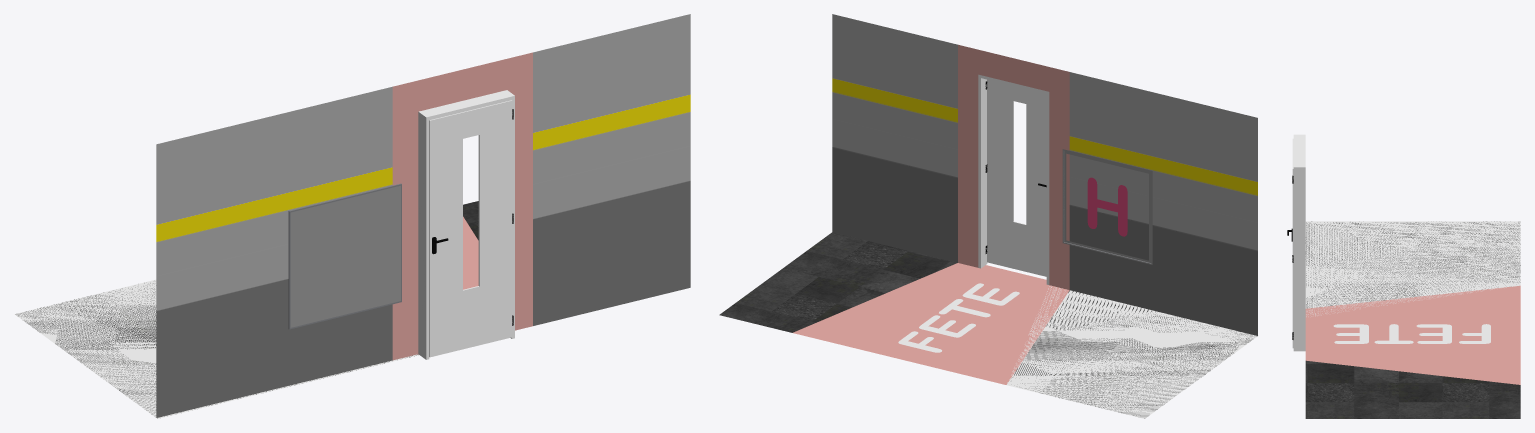
3 renders of one model, left to right at view 1: azimuth 30°, elevation 25°; view 2: azimuth 150°, elevation 25°; view 3: azimuth 270°, elevation 25°, orthographic. The views are drawn at different scales.
Visible parts, largest first — view 1: SketchUp.007, SketchUp.005, SketchUp.018, SketchUp, SketchUp.014, SketchUp.004, SketchUp.001; view 2: SketchUp.007, SketchUp.005, SketchUp, SketchUp.004, SketchUp.018, SketchUp.006, SketchUp.009, SketchUp.010, SketchUp.014, SketchUp.008, SketchUp.013, SketchUp.011; view 3: SketchUp.004, SketchUp, SketchUp.006, SketchUp.018, SketchUp.011, SketchUp.013, SketchUp.015, SketchUp.012.
Boxes of the visible parts, box(x1,y1,x2,y2) form: SketchUp.007: box(156, 86, 392, 417); SketchUp.005: box(533, 14, 690, 325); SketchUp.018: box(418, 90, 514, 359); SketchUp: box(392, 52, 532, 360); SketchUp.014: box(290, 185, 400, 327); SketchUp.004: box(14, 279, 418, 418); SketchUp.001: box(288, 183, 401, 329); SketchUp.007: box(1069, 72, 1257, 335); SketchUp.005: box(832, 14, 957, 262); SketchUp: box(793, 44, 1069, 384); SketchUp.004: box(1006, 290, 1258, 418); SketchUp.018: box(978, 74, 1049, 284); SketchUp.006: box(719, 232, 957, 332); SketchUp.009: box(1069, 154, 1148, 260); SketchUp.010: box(1087, 177, 1127, 236); SketchUp.014: box(1064, 150, 1151, 263); SketchUp.008: box(1062, 149, 1152, 264); SketchUp.013: box(962, 283, 1019, 305); SketchUp.011: box(919, 315, 975, 337); SketchUp.004: box(1305, 221, 1520, 308); SketchUp: box(1305, 285, 1520, 384); SketchUp.006: box(1305, 360, 1520, 418); SketchUp.018: box(1292, 134, 1305, 351); SketchUp.011: box(1416, 324, 1451, 343); SketchUp.013: box(1333, 324, 1368, 343); SketchUp.015: box(1459, 324, 1490, 343); SketchUp.012: box(1374, 324, 1413, 343).
Size of the model in its own units: 5.19 by 2.54 by 2.59.
Materials: 9 (2 with a texture image).
